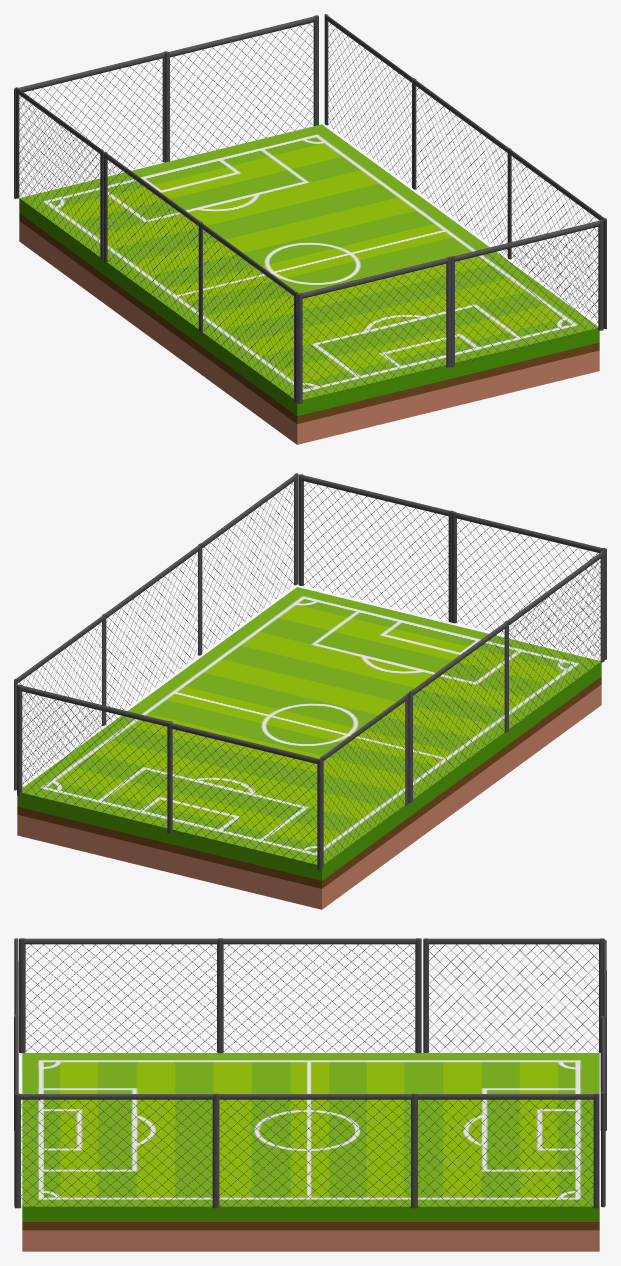
File: field2.glb
3 views of the same model, one above another, from view 1: azimuth 30°, elevation 25°; view 2: azimuth 150°, elevation 25°; view 3: azimuth 270°, elevation 25° (orthographic). The views are drawn at different scales.
Visible parts, largest first — view 1: Cube, Null_2_1__0.002, Null_2_1__0.004, Null_2_1__0.003, Null_2_1__0.005, Null_1_1__0.001, Null_1_1, Null_0_1__0.001, Null_2_1, Null_2_1__0.001, Null_0_1; view 2: Cube, Null_2_1__0.005, Null_2_1__0.003, Null_2_1__0.002, Null_2_1__0.004, Null_1_1__0.001, Null_1_1, Null_0_1__0.001, Null_0_1, Null_2_1__0.001, Null_2_1; view 3: Cube, Null_1_1__0.001, Null_1_1, Null_0_1__0.001, Null_0_1, Null_2_1__0.001, Null_2_1, Null_2_1__0.002, Null_2_1__0.005, Null_2_1__0.003.
Boxes of the visible parts, x1,y1,x2,y2 form: Cube: [19, 124, 599, 444]; Null_2_1__0.002: [165, 15, 318, 162]; Null_2_1__0.004: [297, 256, 451, 403]; Null_2_1__0.003: [451, 219, 603, 367]; Null_2_1__0.005: [14, 51, 166, 198]; Null_1_1__0.001: [103, 151, 202, 332]; Null_1_1: [412, 78, 511, 258]; Null_0_1__0.001: [199, 222, 298, 402]; Null_2_1: [324, 14, 414, 187]; Null_2_1__0.001: [15, 87, 103, 260]; Null_0_1: [509, 148, 606, 329]; Cube: [17, 587, 601, 909]; Null_2_1__0.005: [167, 722, 322, 870]; Null_2_1__0.003: [298, 474, 453, 622]; Null_2_1__0.002: [17, 684, 172, 830]; Null_2_1__0.004: [451, 511, 606, 659]; Null_1_1__0.001: [408, 621, 508, 802]; Null_1_1: [102, 543, 202, 725]; Null_0_1__0.001: [505, 550, 604, 727]; Null_0_1: [198, 473, 298, 650]; Null_2_1__0.001: [320, 693, 408, 866]; Null_2_1: [14, 615, 104, 790]; Cube: [22, 1053, 599, 1251]; Null_1_1__0.001: [217, 938, 421, 1053]; Null_1_1: [213, 1093, 416, 1208]; Null_0_1__0.001: [19, 938, 222, 1053]; Null_0_1: [14, 1093, 218, 1208]; Null_2_1__0.001: [423, 938, 604, 1052]; Null_2_1: [412, 1093, 599, 1208]; Null_2_1__0.002: [600, 1016, 605, 1207]; Null_2_1__0.005: [602, 939, 606, 1130]; Null_2_1__0.003: [14, 1016, 18, 1205].
Bounding box in the file's own units: 273 × 129 × 435.
Materials: 6 (2 with a texture image).
